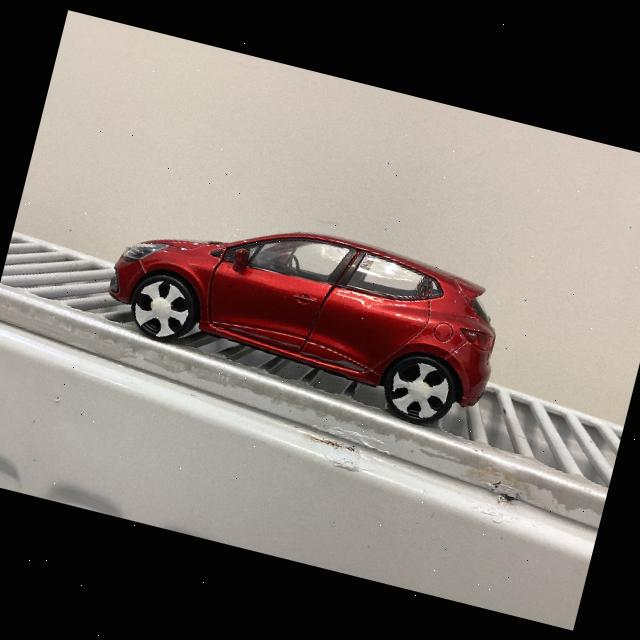Yanlis_Jant: (385, 357, 453, 423), (129, 275, 195, 342)
